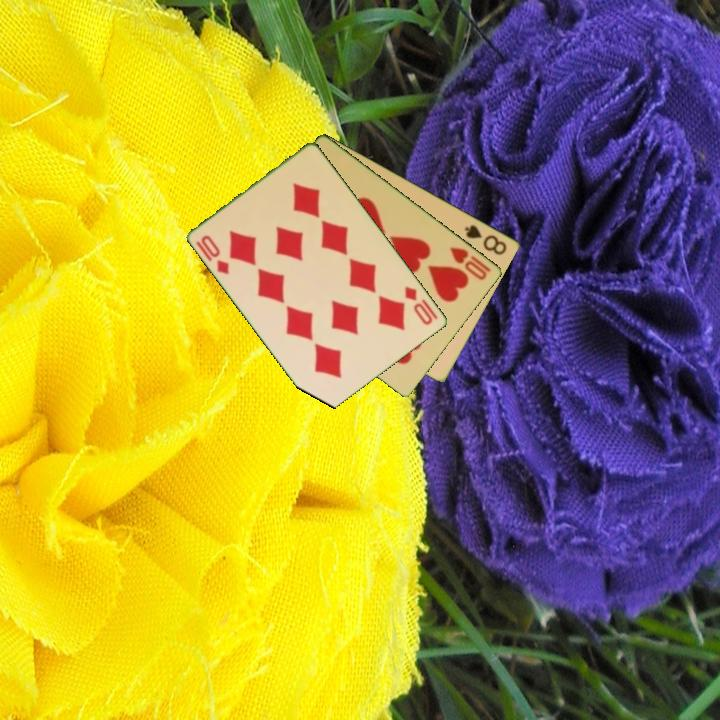10d: (198, 231, 233, 277), (401, 283, 436, 328)
10h: (446, 243, 494, 283)
8s: (461, 221, 510, 258)
